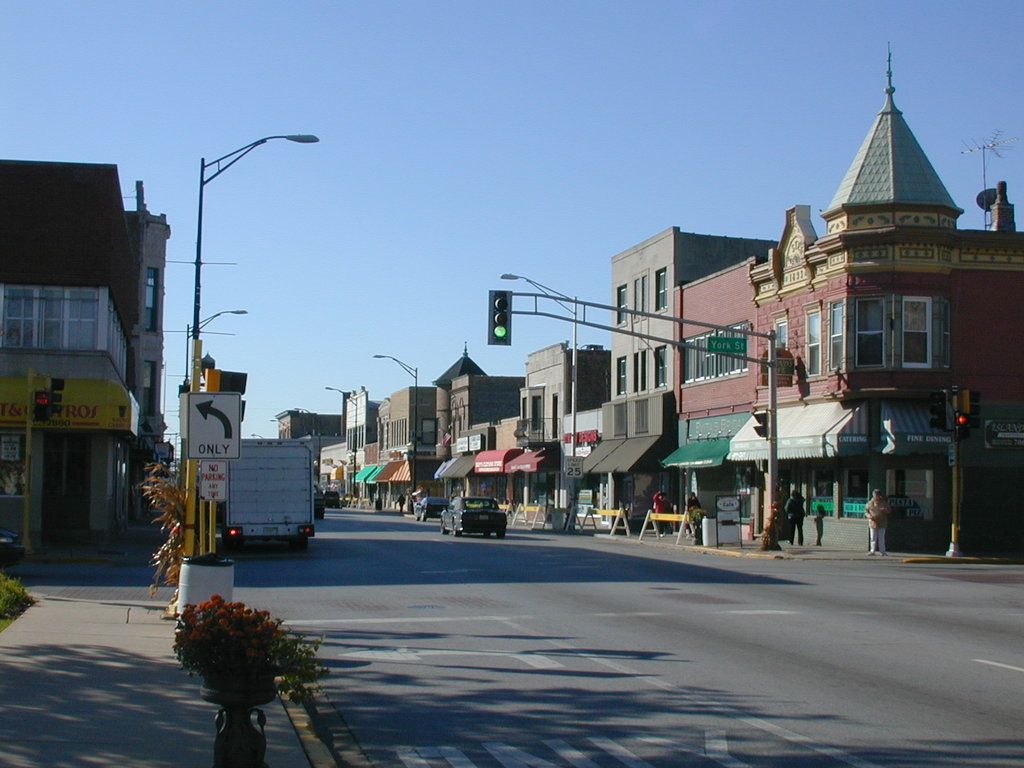green_light: (493, 324, 508, 339)
left_turn: (192, 393, 235, 445)
red_light: (957, 414, 967, 422)
